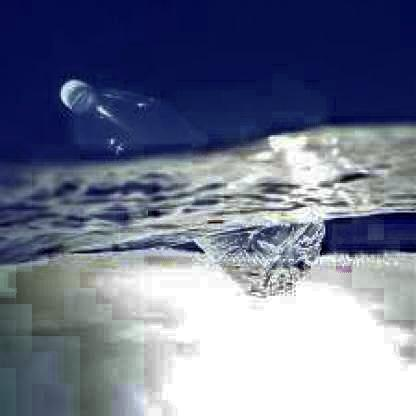pbottle: (54, 72, 332, 305)
